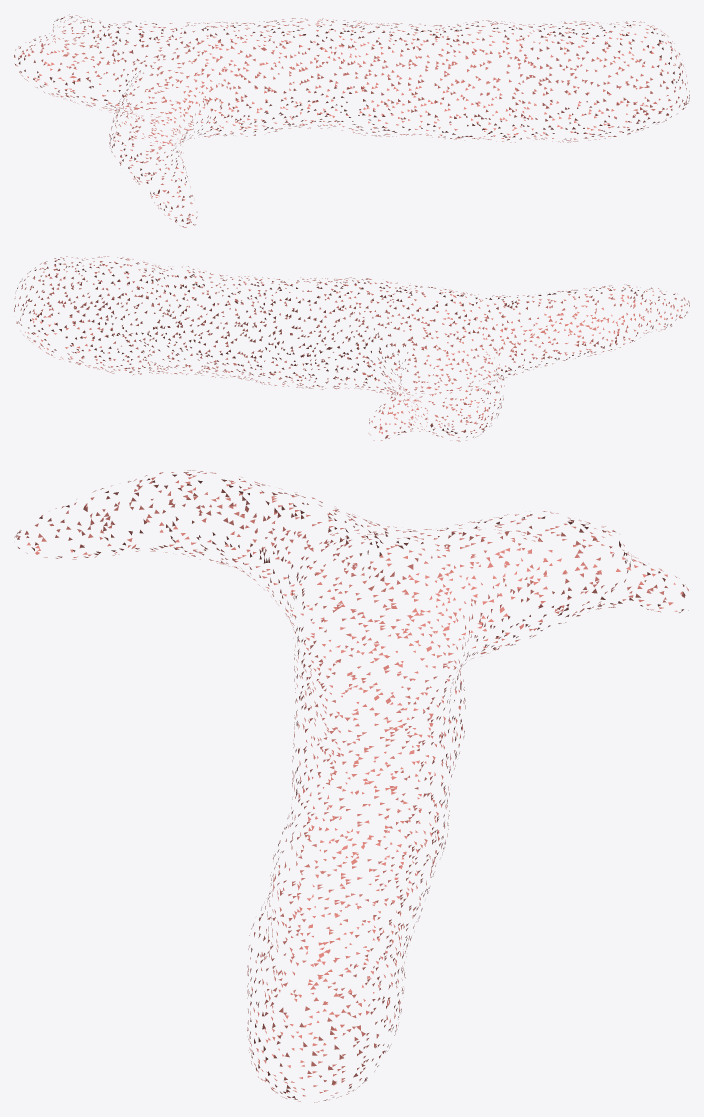
File: morph_001.glb
3 renders of one model, top to bottom at view 1: azimuth 30°, elevation 25°; view 2: azimuth 150°, elevation 25°; view 3: azimuth 270°, elevation 25°, orthographic. The views are drawn at different scales.
Bounding box in the file's own units: 135 × 38.53 × 89.3.
